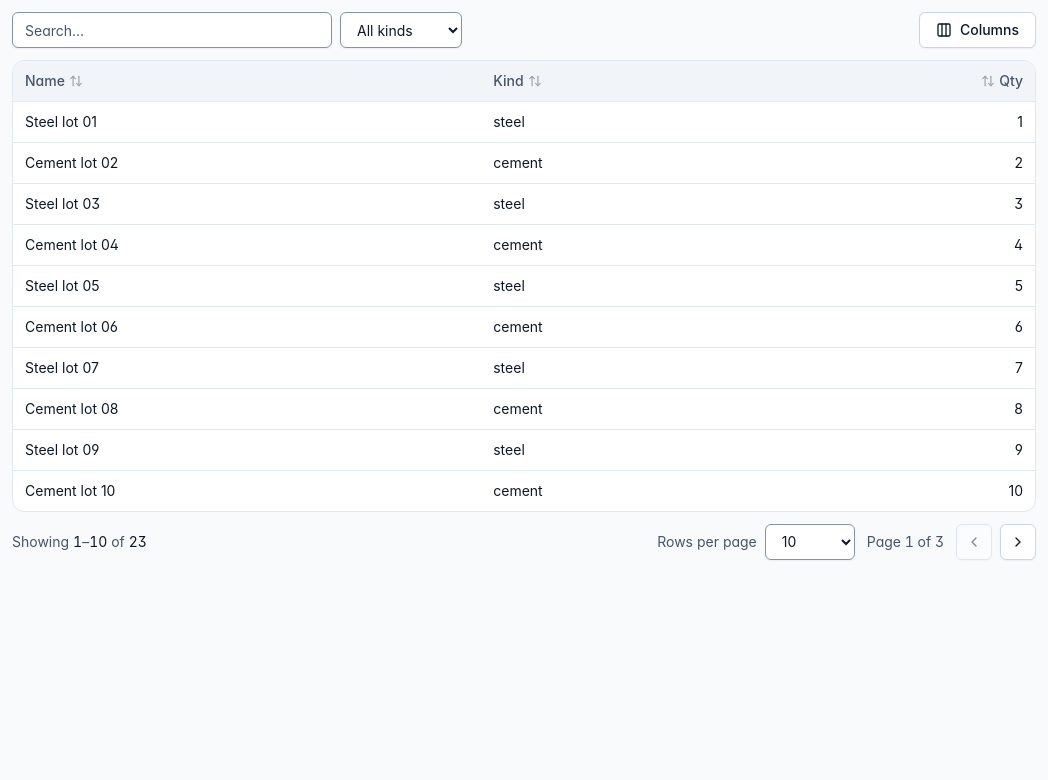
DataTable › filters by an exact option value
Select "Steel" in the dropdown named "Filter by kind" at (401, 30), box top-left (340, 12), bottom-right (462, 48)
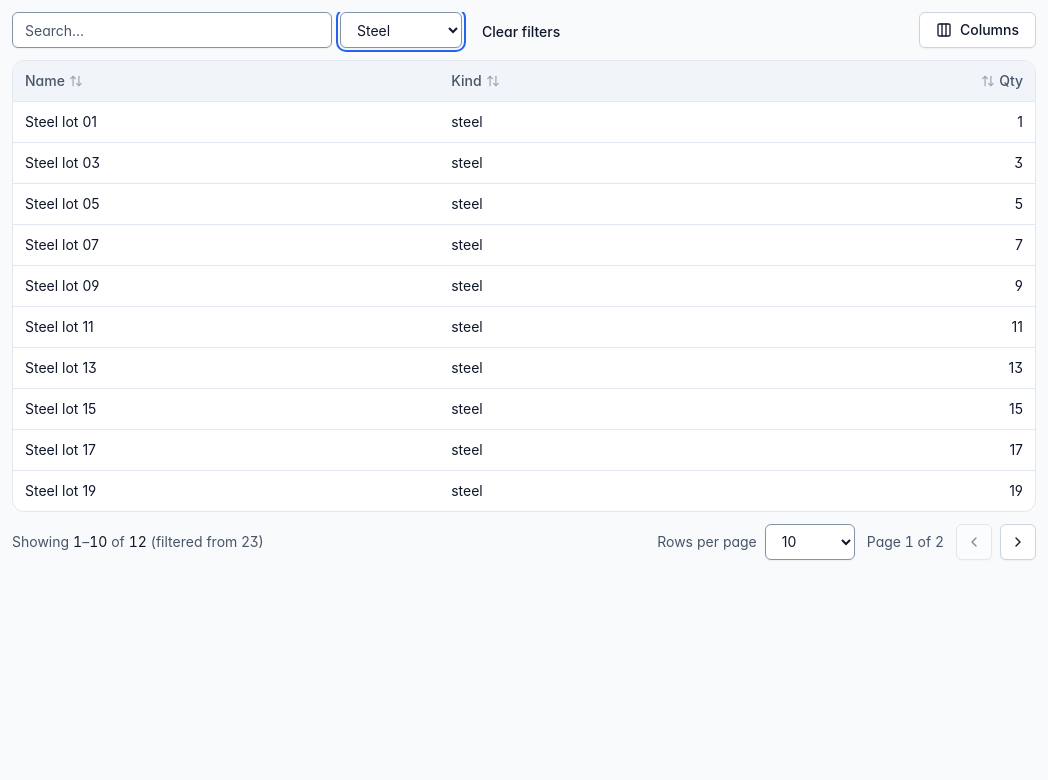
Now the text "Showing 1–10 of 12 (filtered from 23)" is shown, box top-left (12, 532), bottom-right (264, 552)
